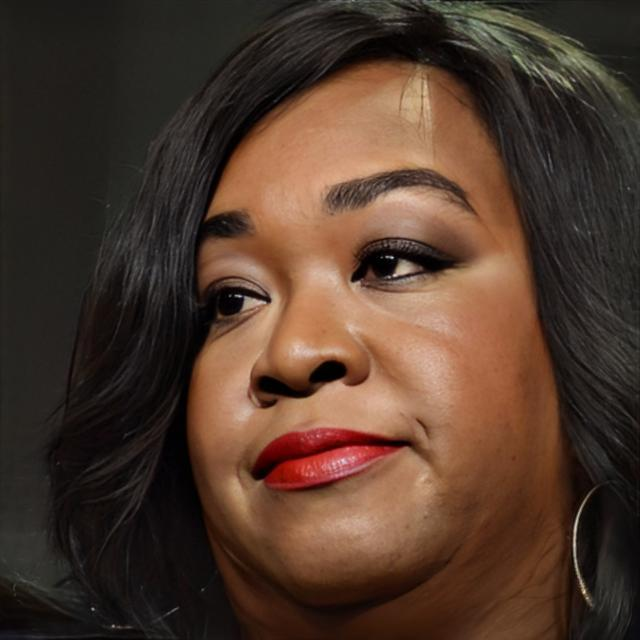content: (186, 51, 562, 588)
